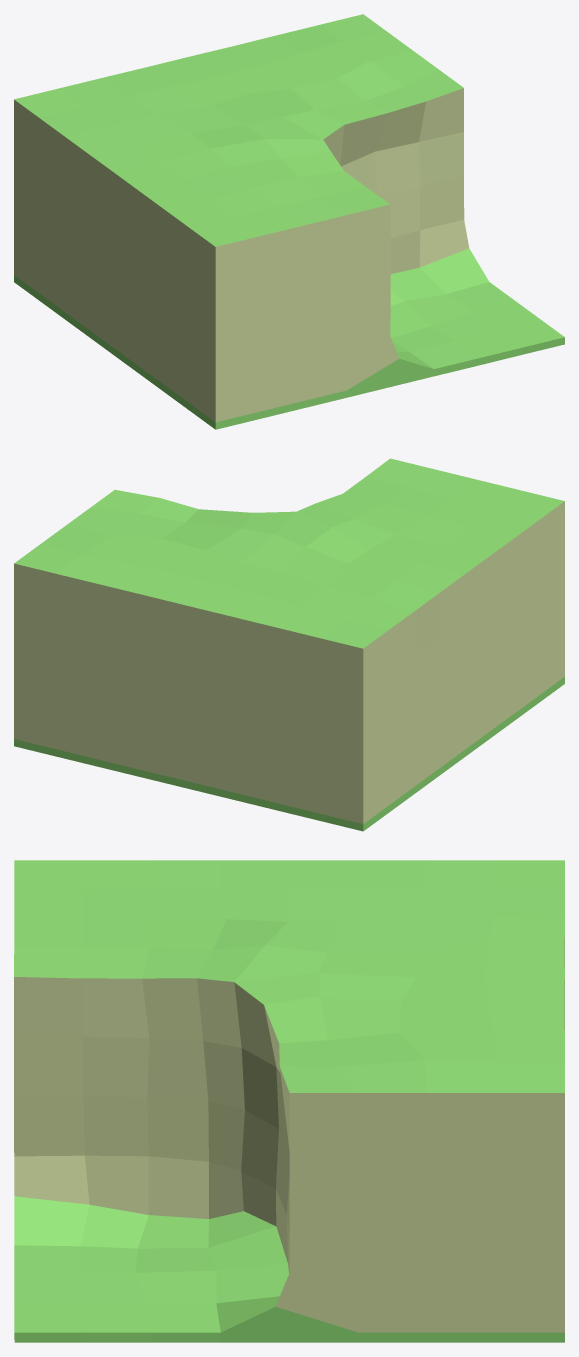
Rendered from wall_convex_1.glb.
The picture shows the model from 3 angles, top to bottom: view 1: azimuth 30°, elevation 25°; view 2: azimuth 150°, elevation 25°; view 3: azimuth 270°, elevation 25°; orthographic projection. The views are drawn at different scales.
Visible parts, largest first — view 1: wall_convex_1; view 2: wall_convex_1; view 3: wall_convex_1.
Boxes of the visible parts, x1=… form: wall_convex_1: x1=14, y1=14, x2=564, y2=429; wall_convex_1: x1=14, y1=458, x2=564, y2=831; wall_convex_1: x1=14, y1=860, x2=564, y2=1342.
Bounding box in the file's own units: 2 × 1.04 × 2.
